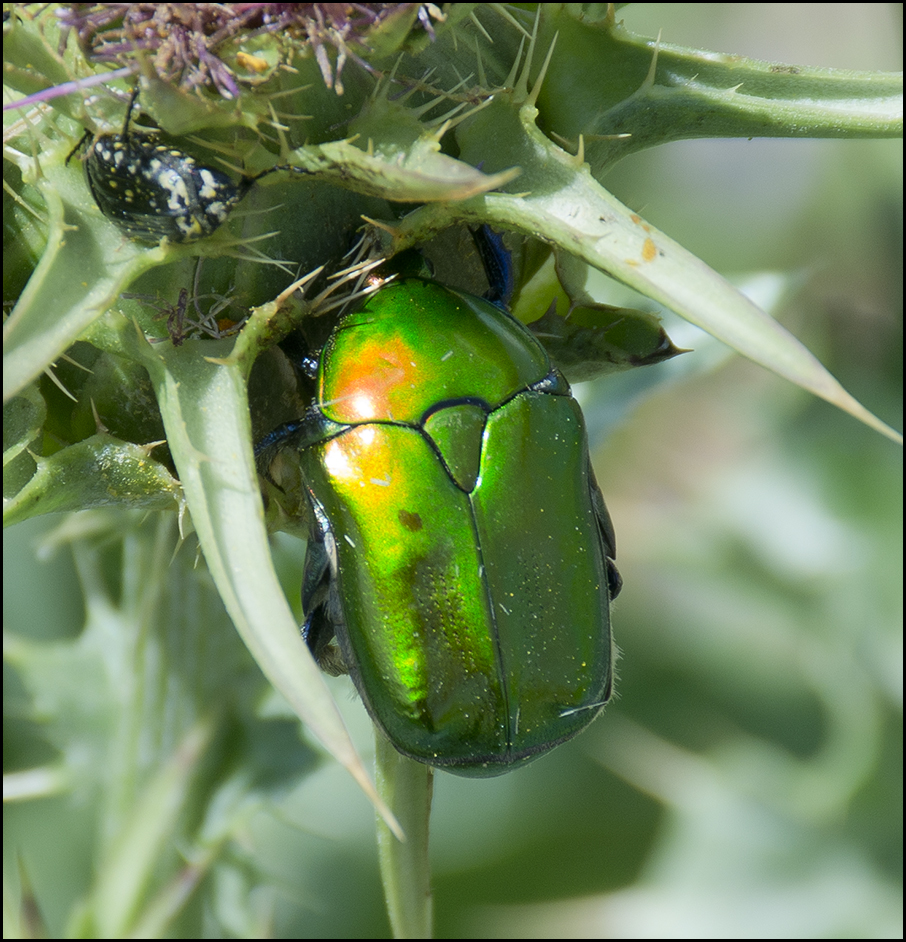Protaetia_cuprea_ignicollis: (256, 274, 624, 788)
